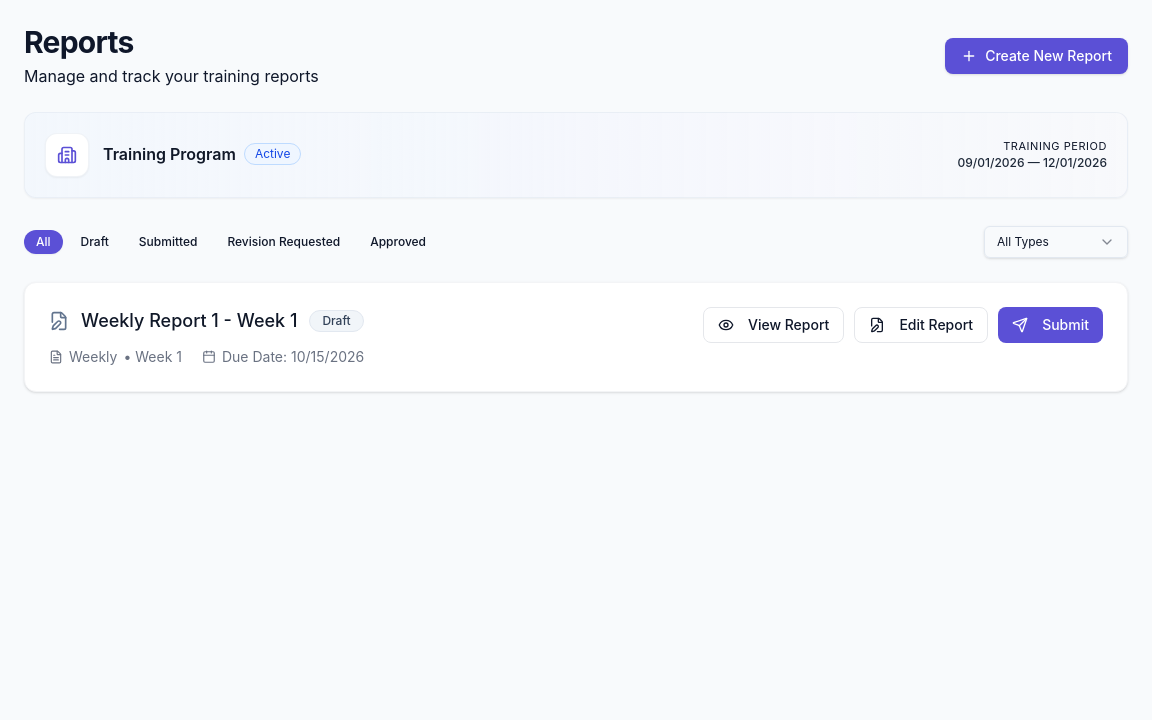
Test: ReportsPage › opens create report dialog when clicking create button
Click the button "Create New Report" at (1037, 56), box [945,38,1128,74]
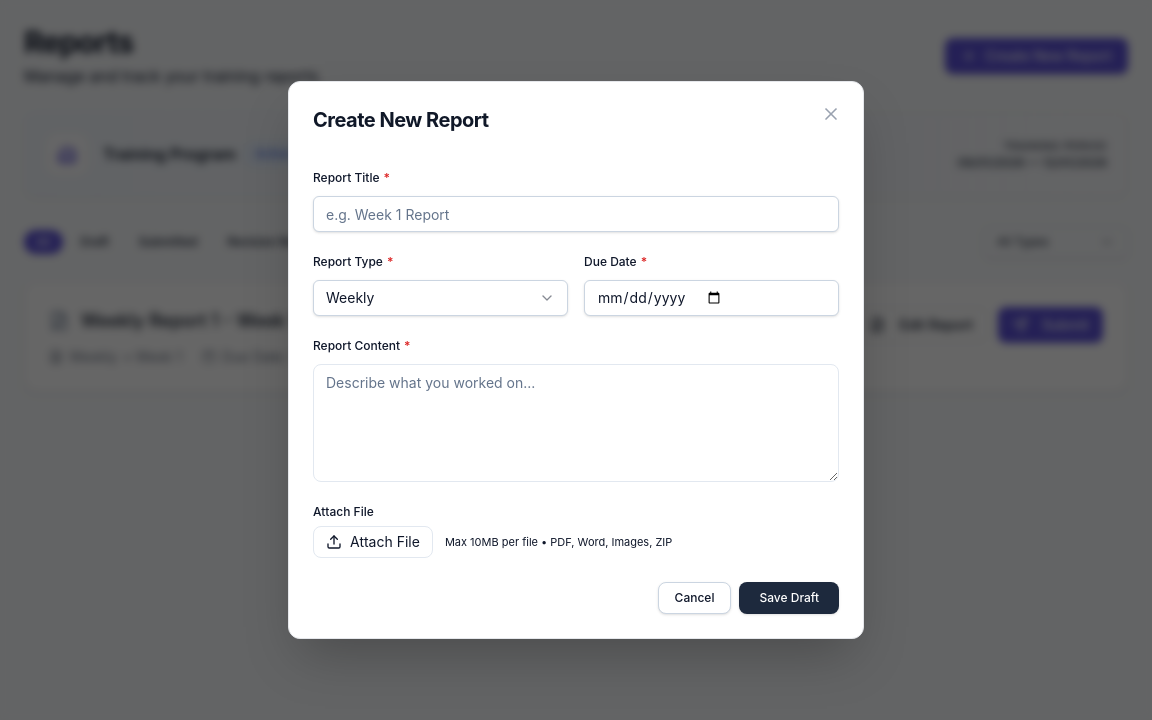
Result: the dialog is shown at [288,81,864,639]
